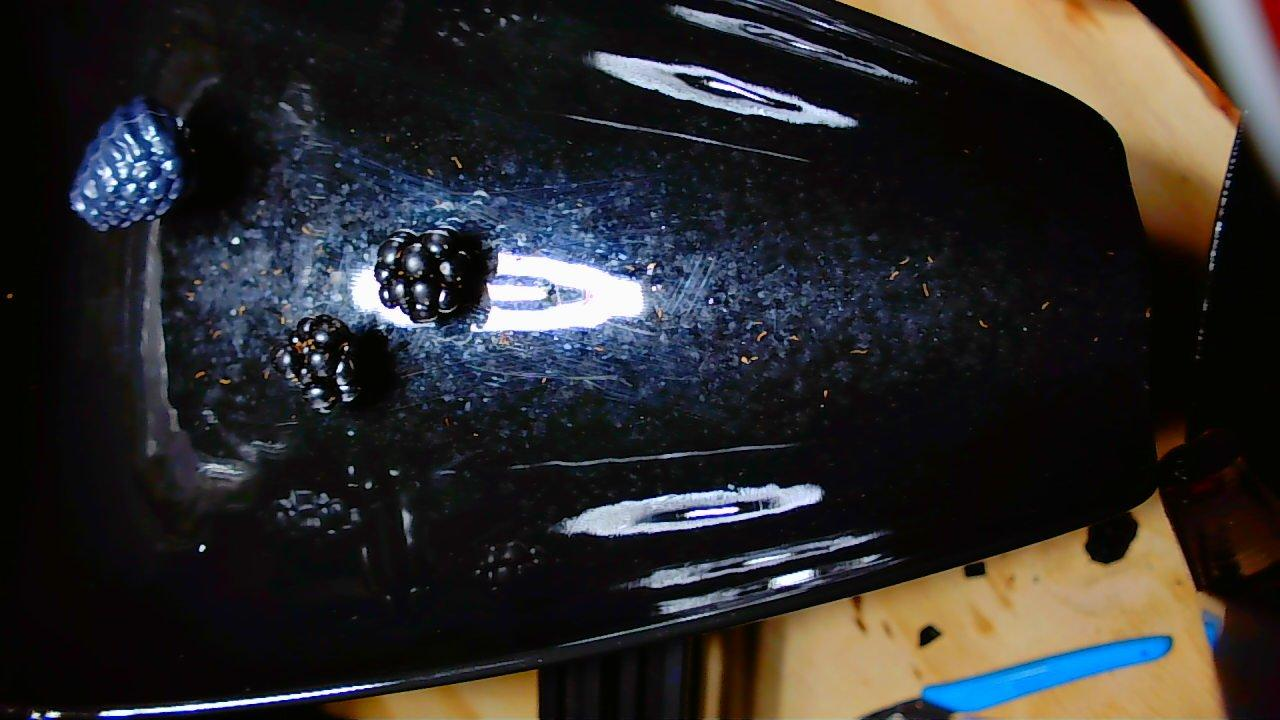berry: (70, 96, 184, 231), (373, 227, 488, 324), (274, 314, 362, 412)
